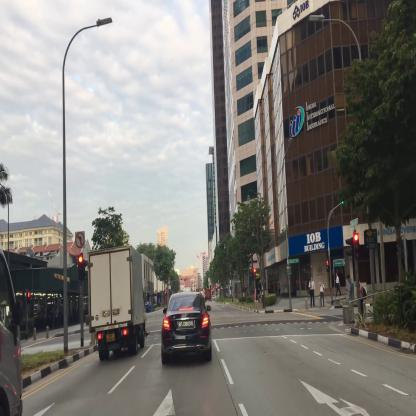red_traffic_light: (354, 231, 360, 260), (79, 255, 82, 275), (254, 267, 257, 280)
